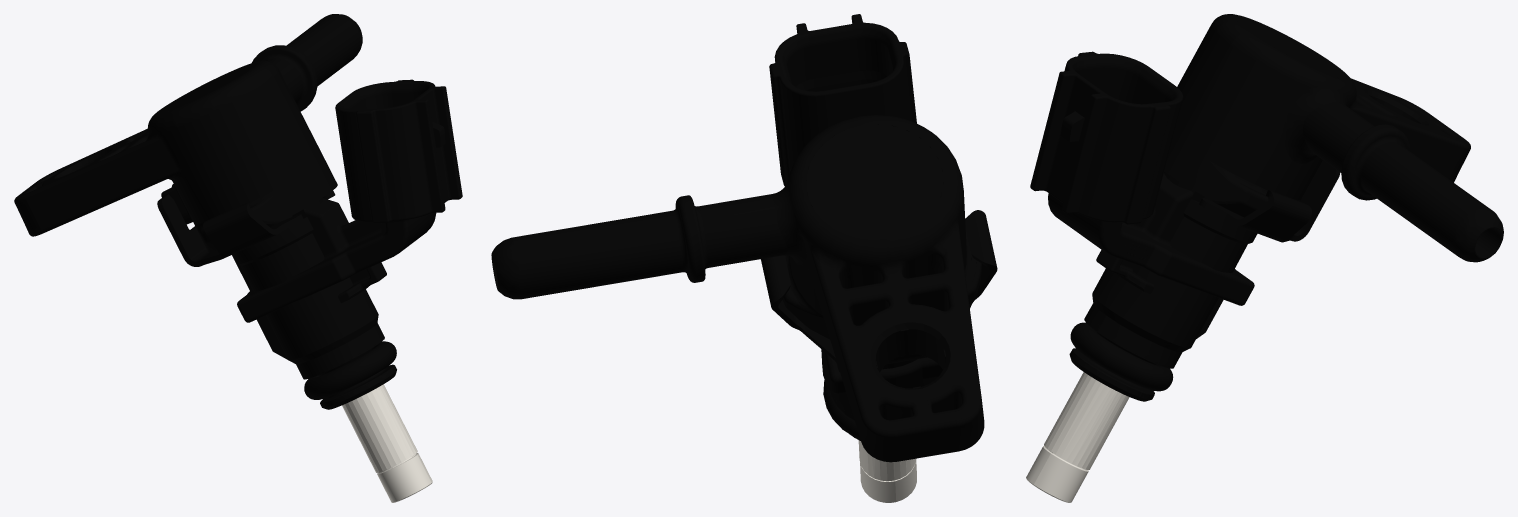
The model's file is Fuel Injector.glb.
3 views of the same model, side by side, from view 1: azimuth 30°, elevation 25°; view 2: azimuth 150°, elevation 25°; view 3: azimuth 270°, elevation 25° (orthographic). The views are drawn at different scales.
Parts seen in each view (by area): view 1: final bike mod.049, final bike mod.063; view 2: final bike mod.049, final bike mod.063; view 3: final bike mod.049, final bike mod.063.
Part boxes in pixels (x1,y1,x2,y2): final bike mod.049: [14, 14, 462, 409]; final bike mod.063: [342, 384, 432, 502]; final bike mod.049: [491, 14, 997, 462]; final bike mod.063: [858, 440, 916, 502]; final bike mod.049: [1030, 14, 1503, 401]; final bike mod.063: [1026, 372, 1129, 502].
Size of the model in its own units: 0.4031 by 0.4087 by 0.4013.
Materials: 2 (1 with a texture image).
